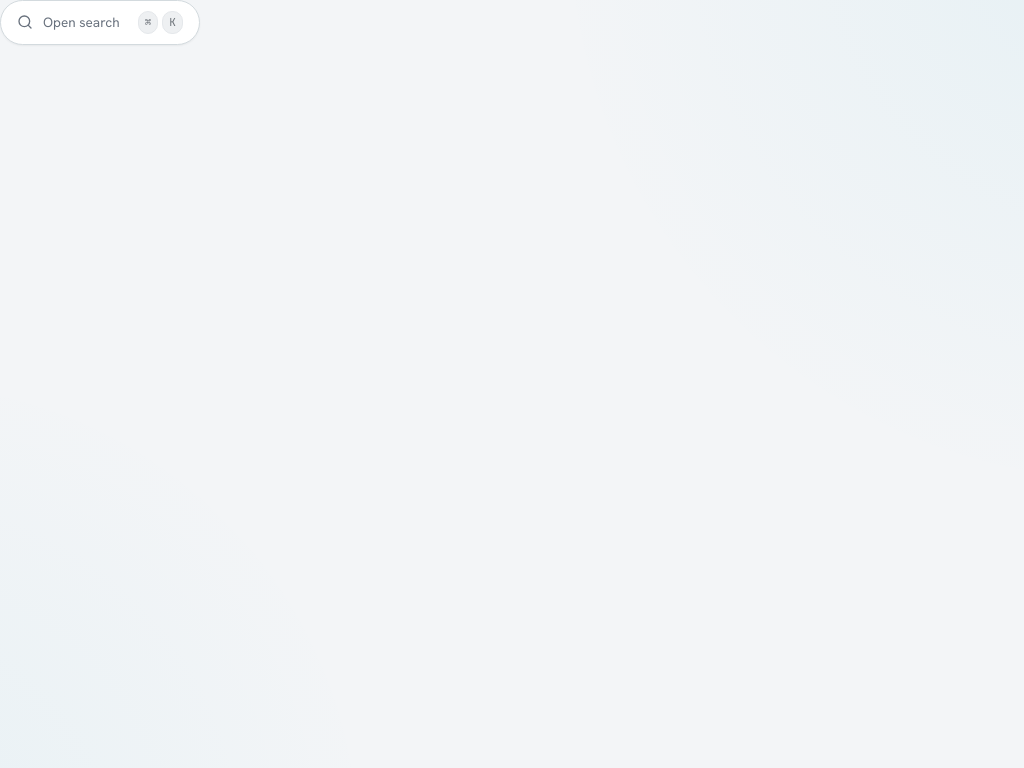
it: CommandPalette live /search (#231) › does not query the backend for a blank palette
The width and height of the screenshot is (1024, 768).
Click the button "Open search ⌘ K": (100,22) [0, 0, 200, 44]
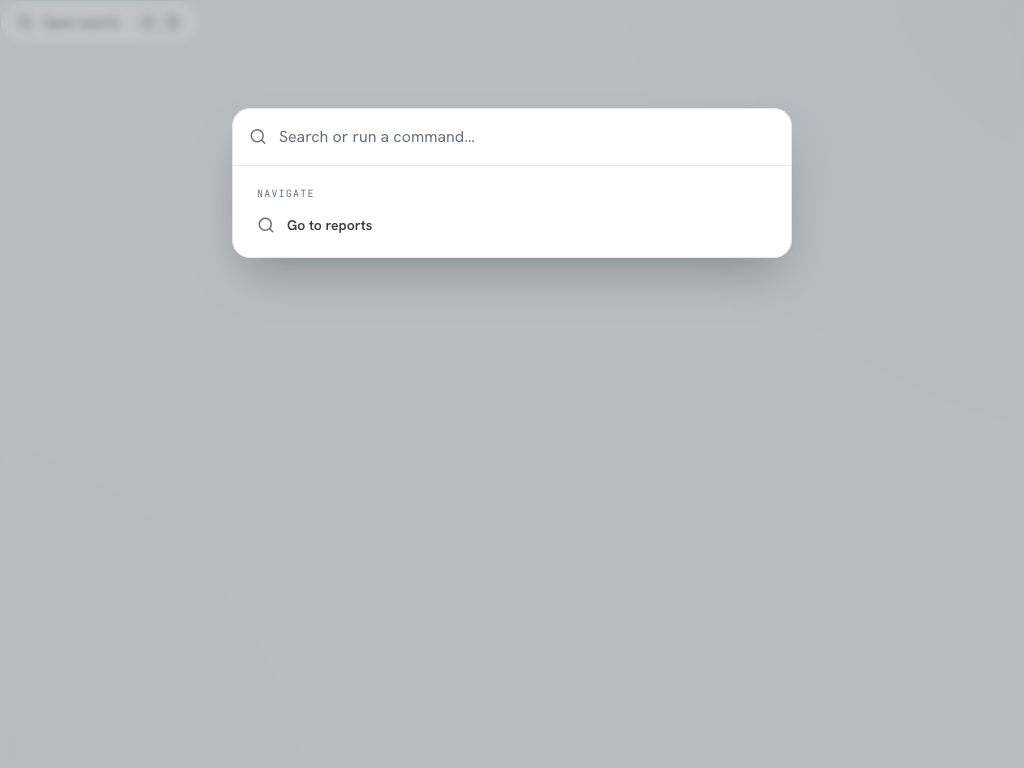
Now the option "Go to reports" is shown, box [245, 204, 779, 244]
